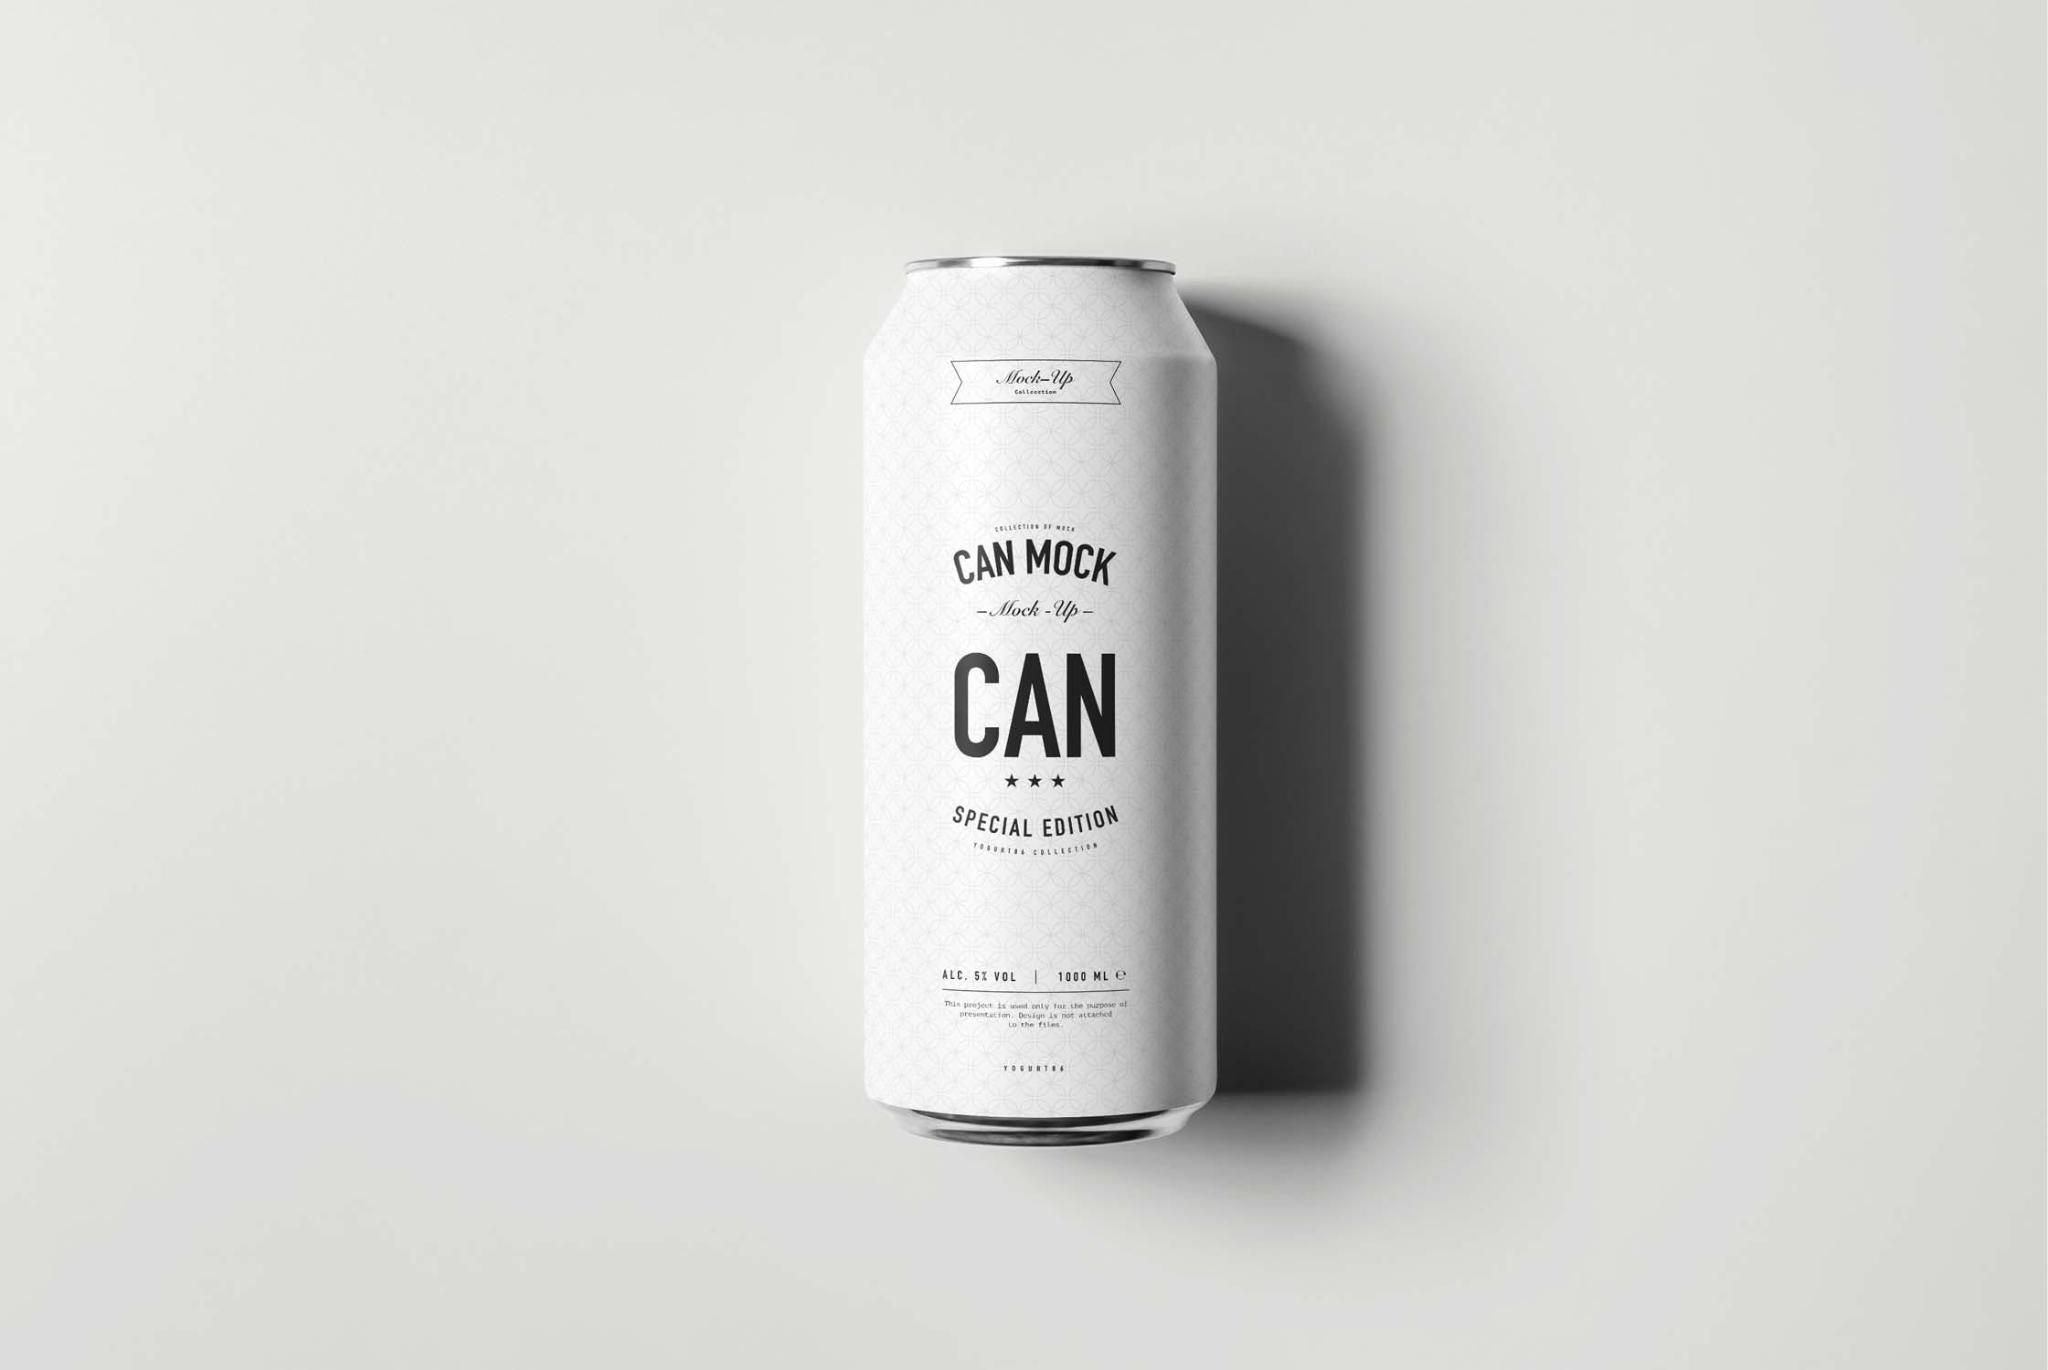metal: (864, 257, 1217, 1147)
